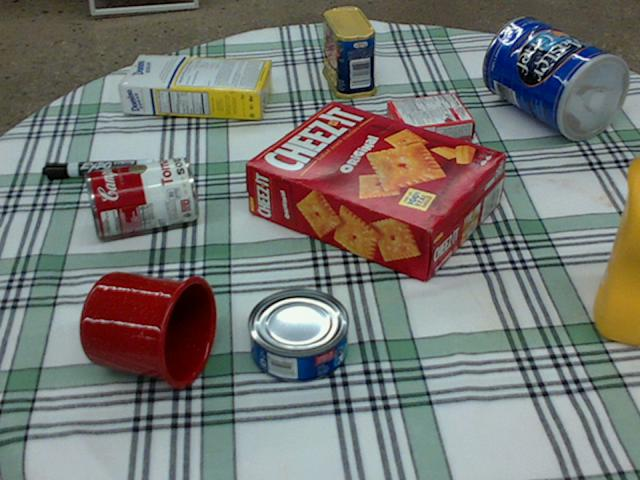cracker_box: (247, 99, 505, 279)
gelatin_box: (384, 89, 473, 149)
large_marker: (41, 158, 153, 179)
master_chef_can: (481, 17, 627, 139)
mug: (78, 272, 216, 387)
mustard_bottle: (593, 154, 639, 342)
potted_meat_can: (320, 5, 376, 98)
sugar_box: (119, 55, 273, 118)
tomato_soup_can: (83, 154, 197, 237)
tuna_fish_can: (246, 288, 348, 382)
